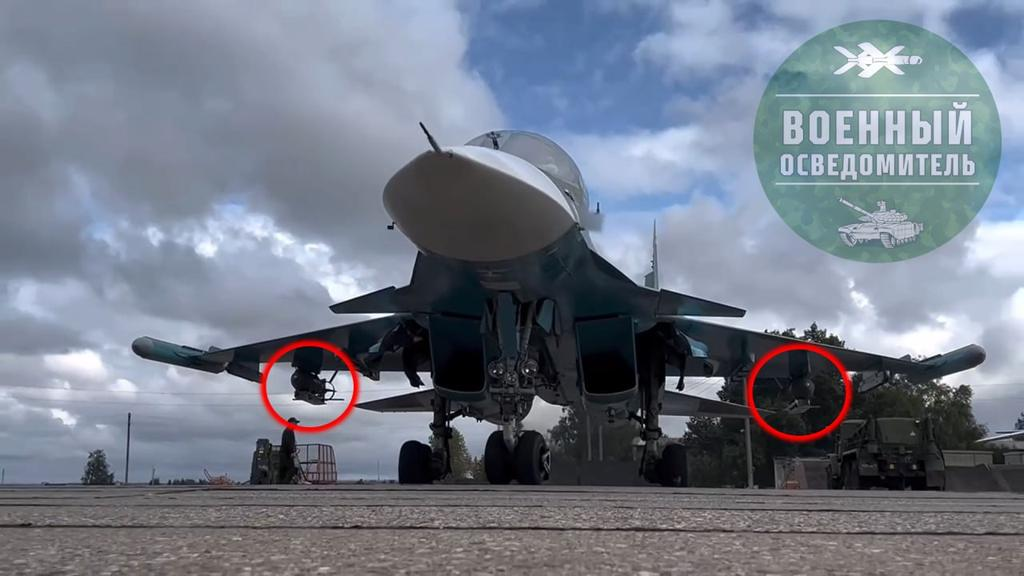airplane: (130, 120, 987, 487)
